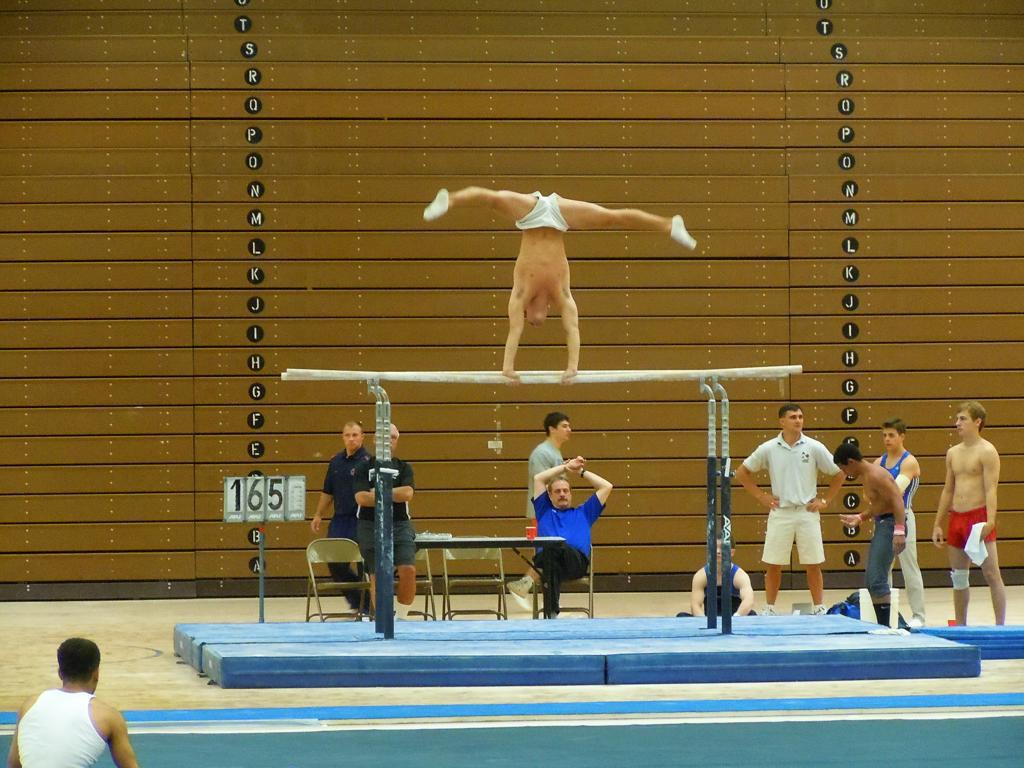face: (957, 414, 977, 436), (552, 484, 571, 506), (883, 431, 901, 451), (381, 432, 397, 454), (715, 541, 731, 563), (785, 413, 803, 431), (555, 422, 572, 441), (345, 431, 361, 450), (840, 465, 858, 477), (528, 318, 546, 328)
